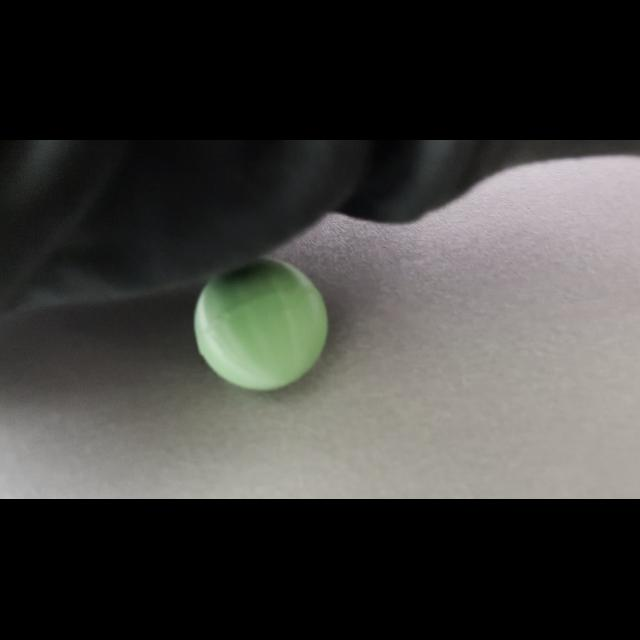objects: (189, 254, 333, 396)
